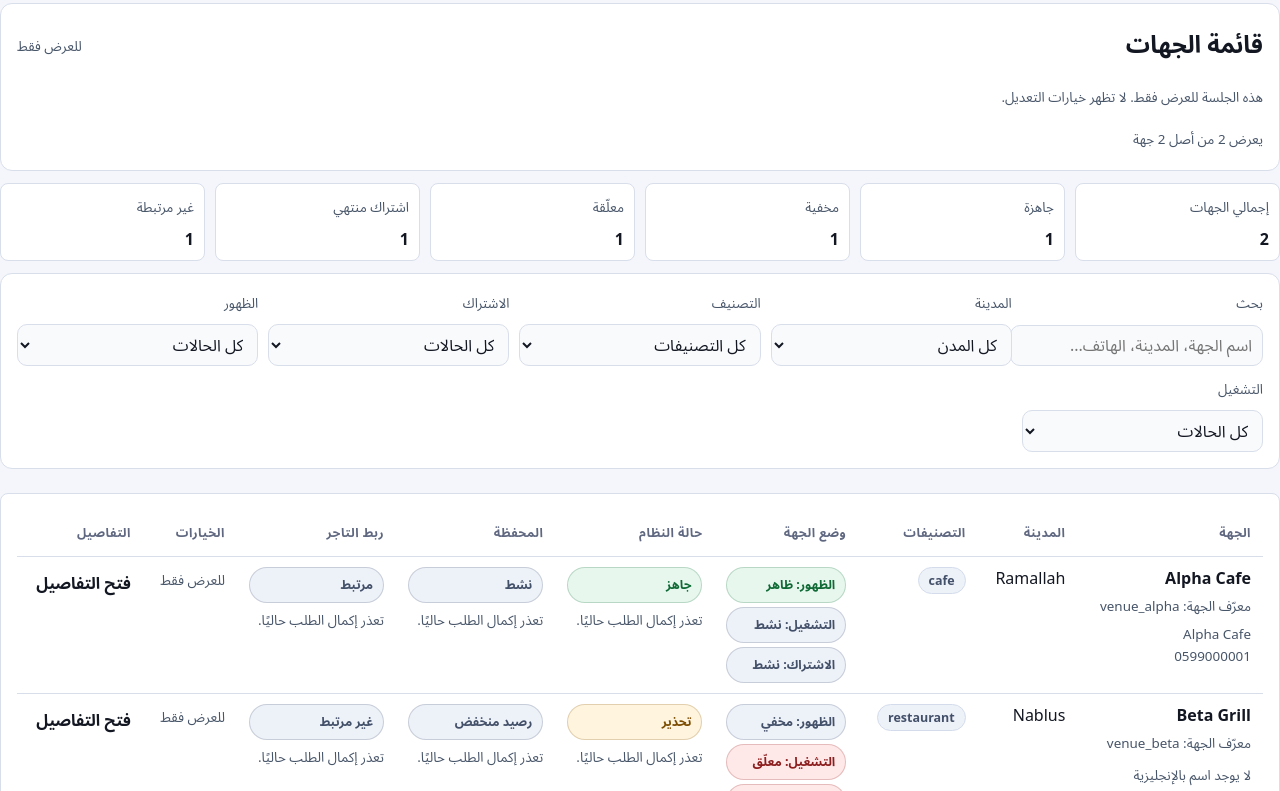
Test: venue directory shell › renders active filter chips and clears an individual chip
The image size is (1280, 791).
Select "Nablus" in the dropdown with test id "venue-directory-city-filter" at (891, 345), box [771,324,1012,366]
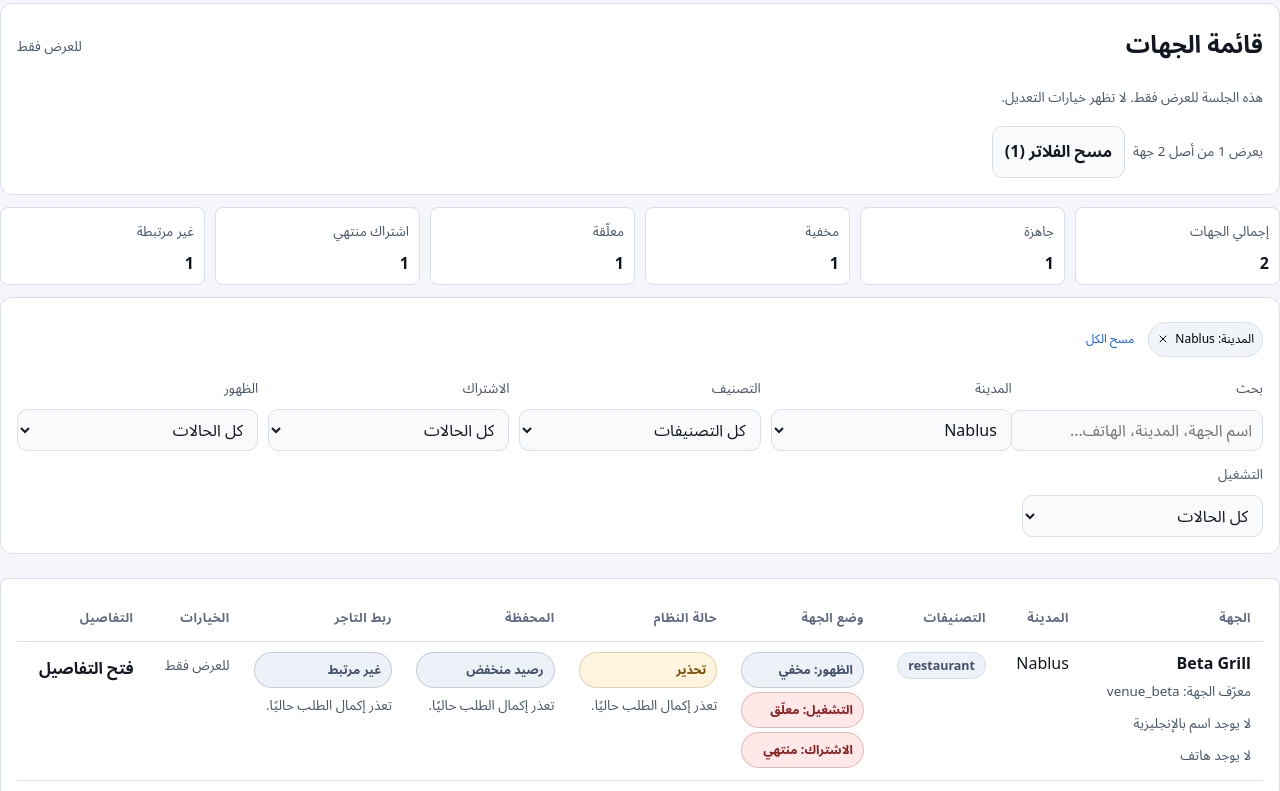
Check: the row with test id "venue-directory-row-venue_beta" is shown, box [17,641,1263,780]
Check: the row with test id "venue-directory-row-venue_alpha" is gone
Check: the button with aria-label "إزالة المدينة: Nablus" is shown
Click the button with aria-label "إزالة المدينة: Nablus".
click(1206, 339)  # box [1148,322,1263,357]
(page scrolled)
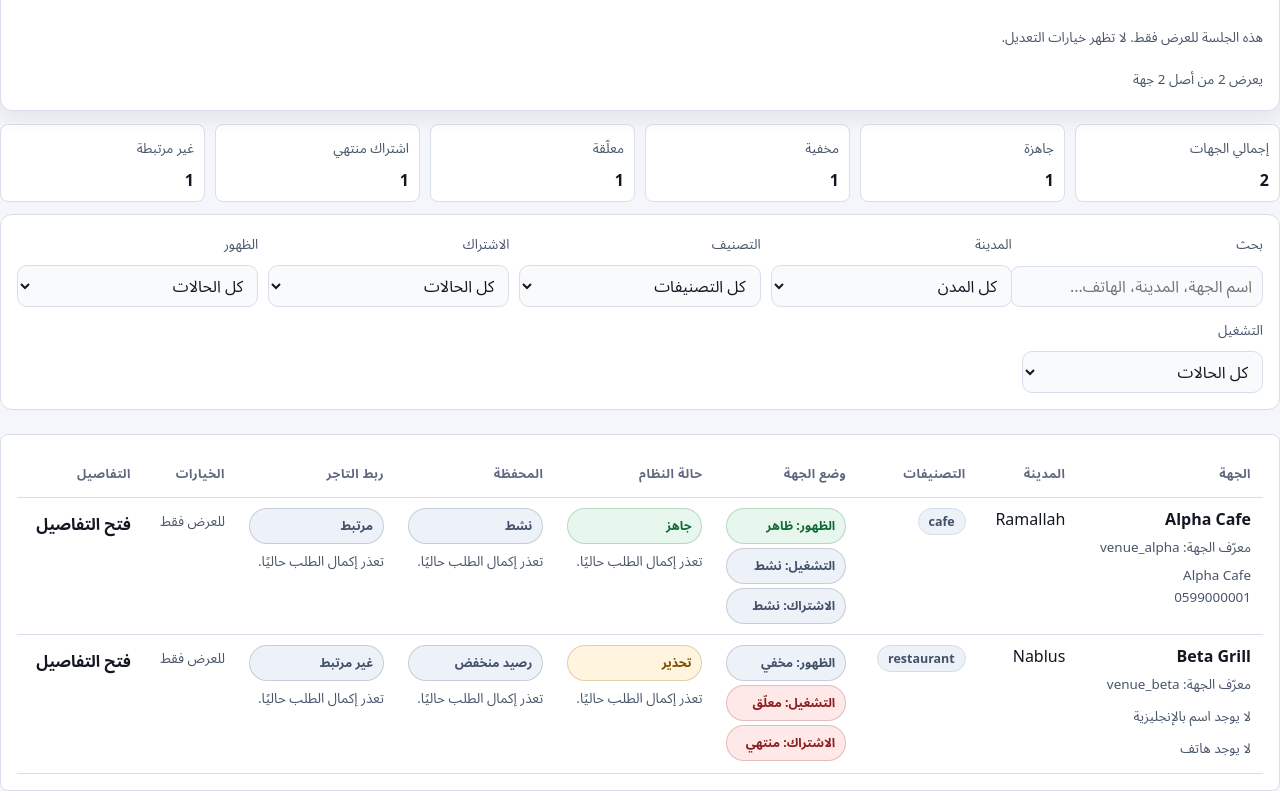
Check: the row with test id "venue-directory-row-venue_beta" is shown, box [17,634,1263,773]
Check: the row with test id "venue-directory-row-venue_alpha" is shown, box [17,497,1263,634]
